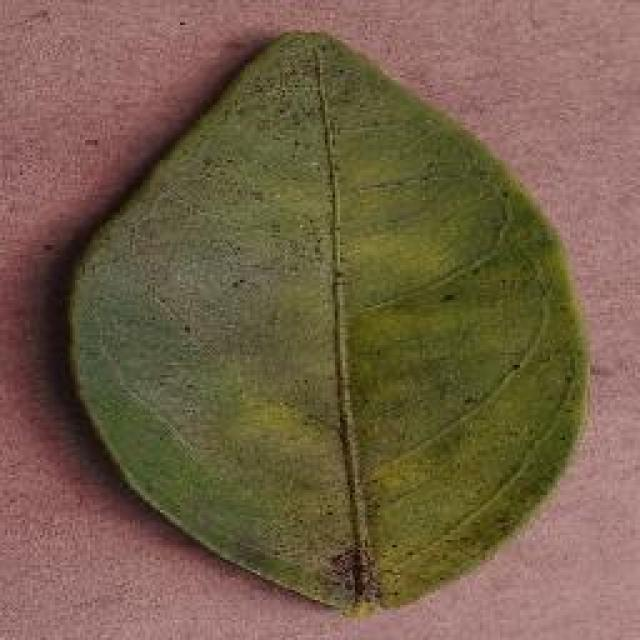Orange_Haunglongbing_Citrus_greening: (151, 105, 520, 520)
